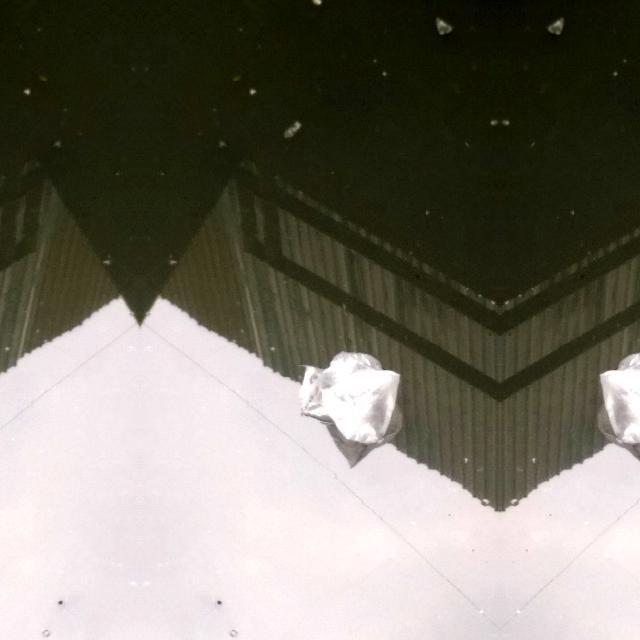Plastic: (292, 337, 421, 467), (577, 337, 640, 467)
